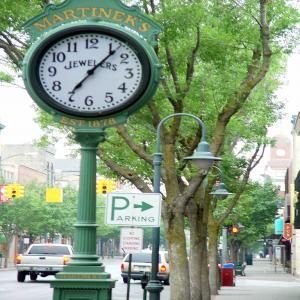Vehicle-registration-plate: (37, 267, 47, 271)
